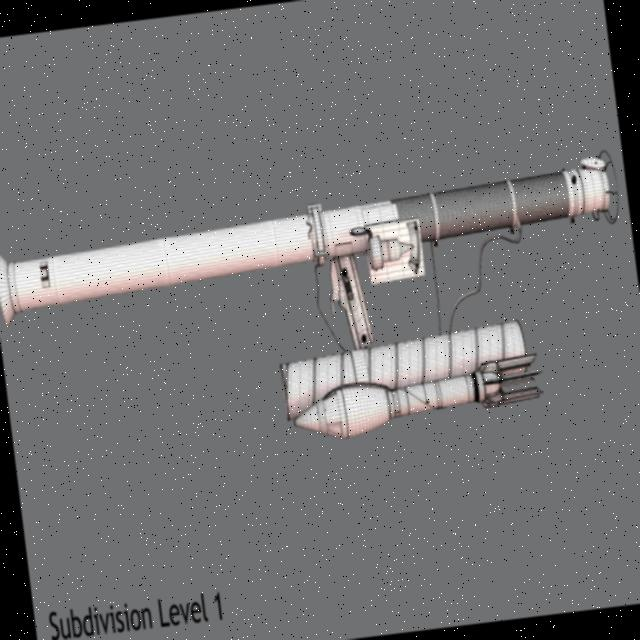Bazooka: (0, 166, 617, 354)
